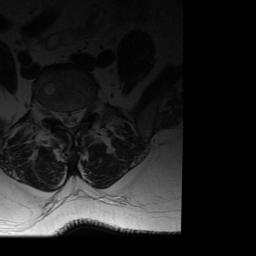CCS_normal: (67, 106, 75, 132)
LFS_normal: (83, 100, 90, 119)
LLS_normal: (75, 102, 83, 126)
RFS_normal: (50, 105, 58, 125)
RLS_normal: (58, 105, 67, 131)
